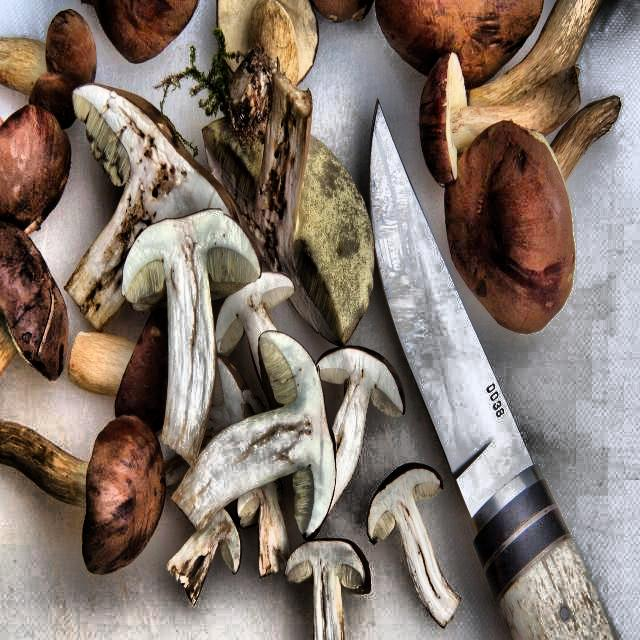knife: (365, 93, 625, 640)
